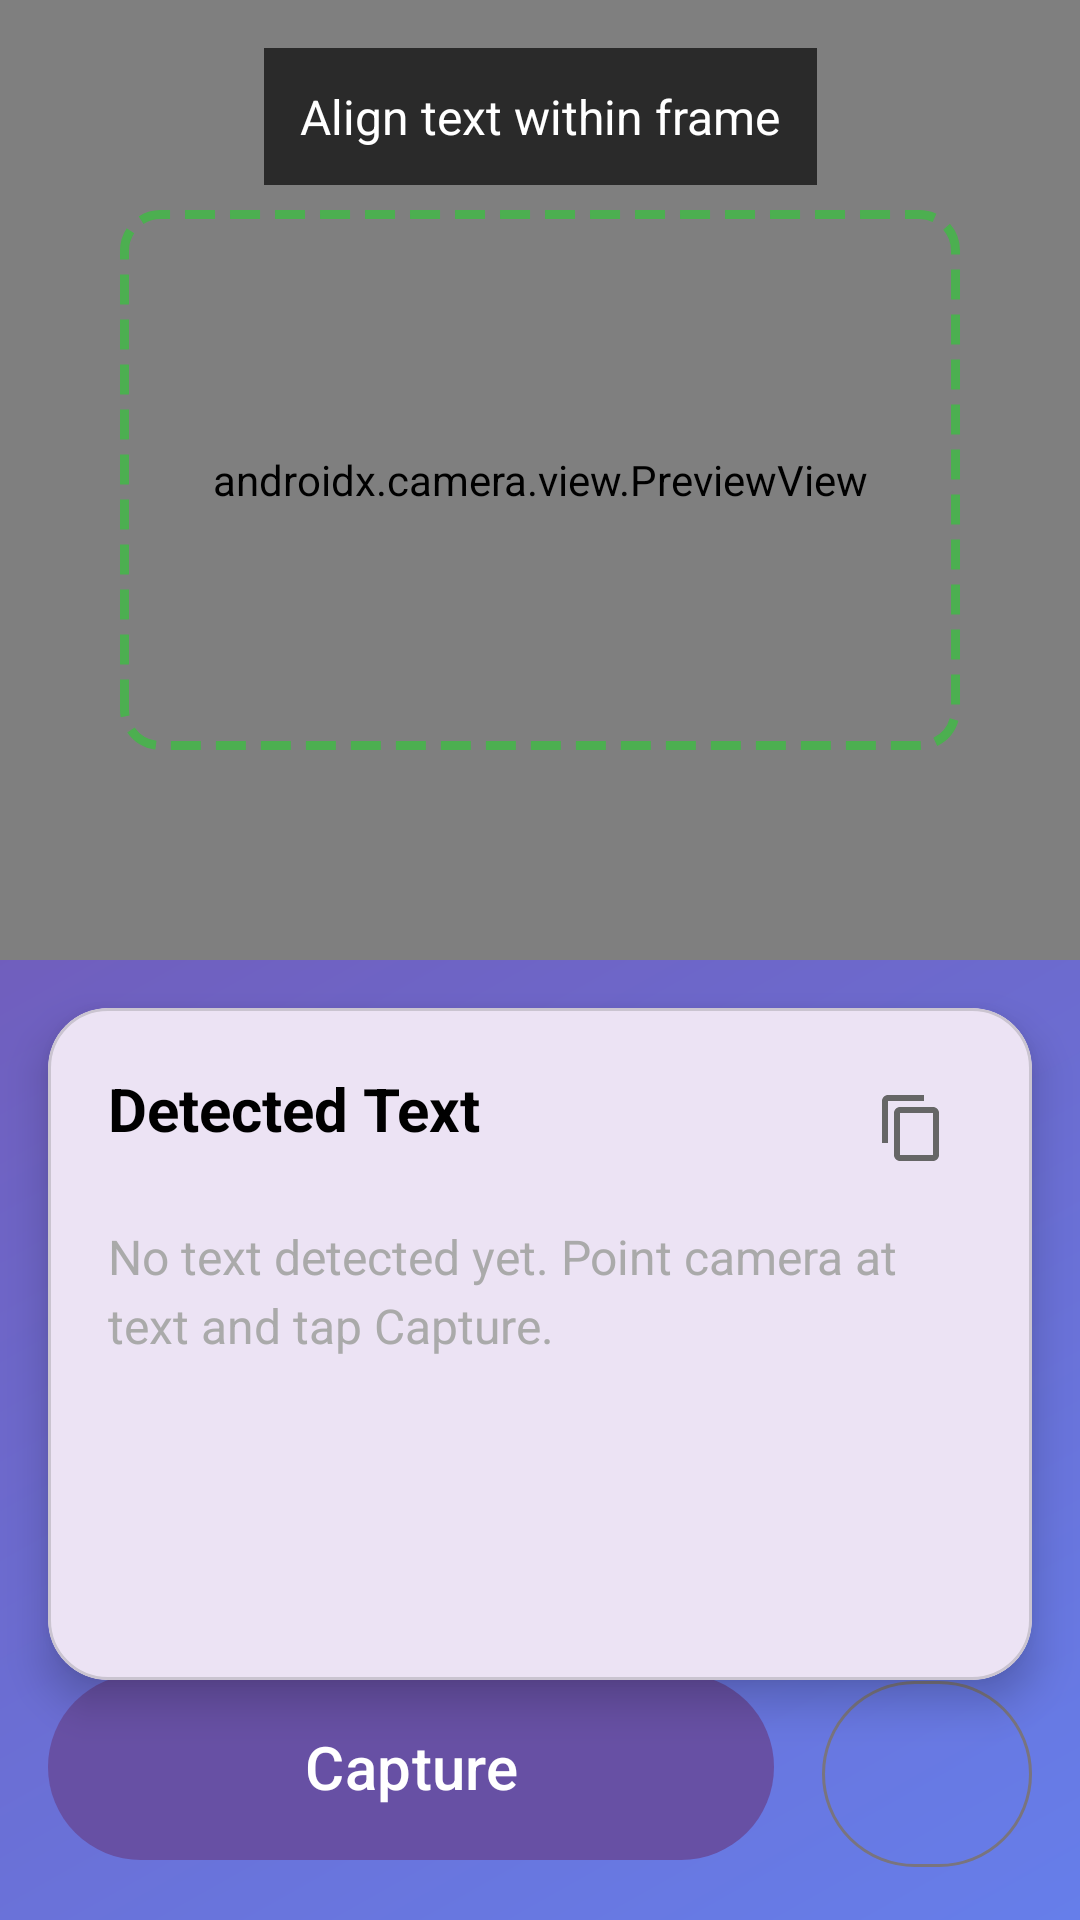

Screen size 1080×1920. Icon name, then its center in pixels as point (x, y):
Copy text: point (910, 1128)
